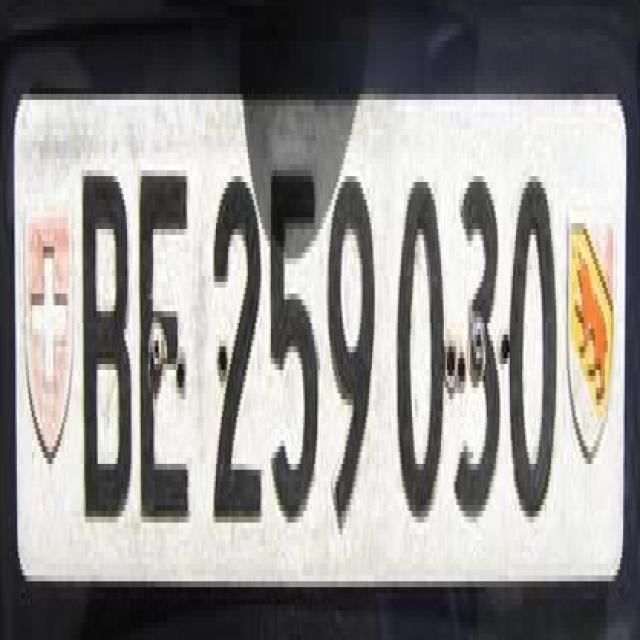Autre: (18, 105, 631, 637)
